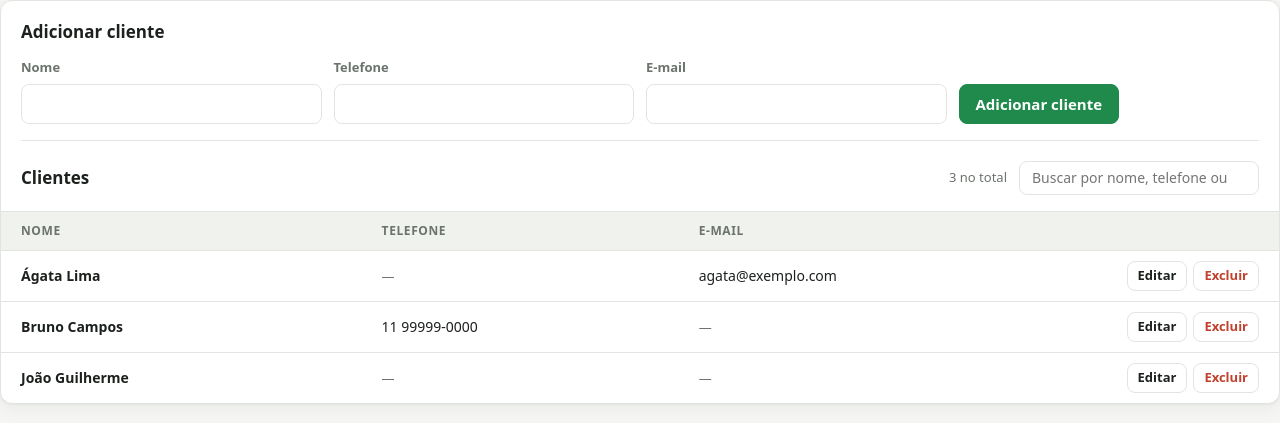
Scenario: buyers are listed alphabetically and can be searched
The width and height of the screenshot is (1280, 423).
In the search field named "buscar cliente": coordinates (1139, 178) [1019,161,1259,195], type "joao"
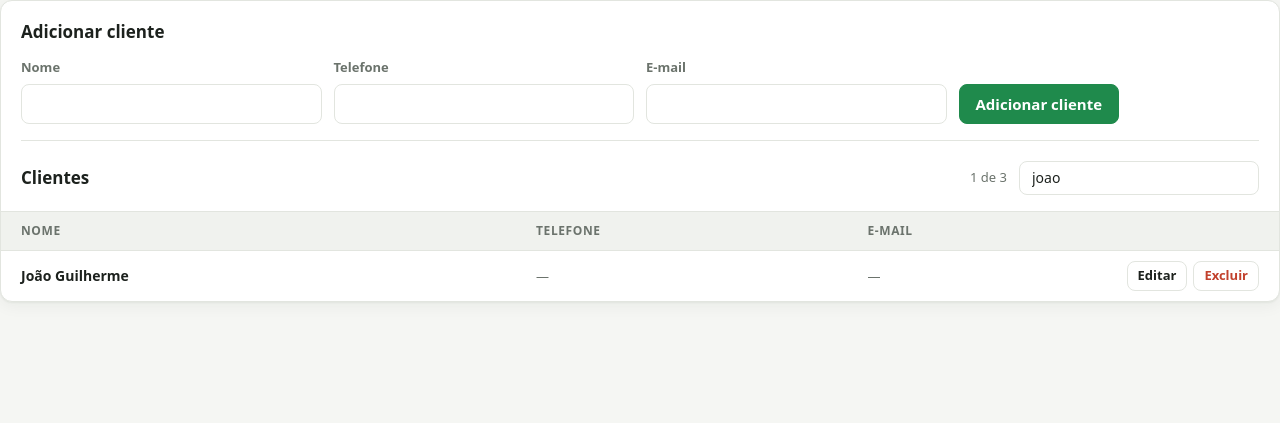
expect the text "1 de 3" is shown: met, box [970,168,1007,188]
Replace the text in the search field named "buscar cliente" with "9999": coordinates (1139, 178) [1019,161,1259,195]
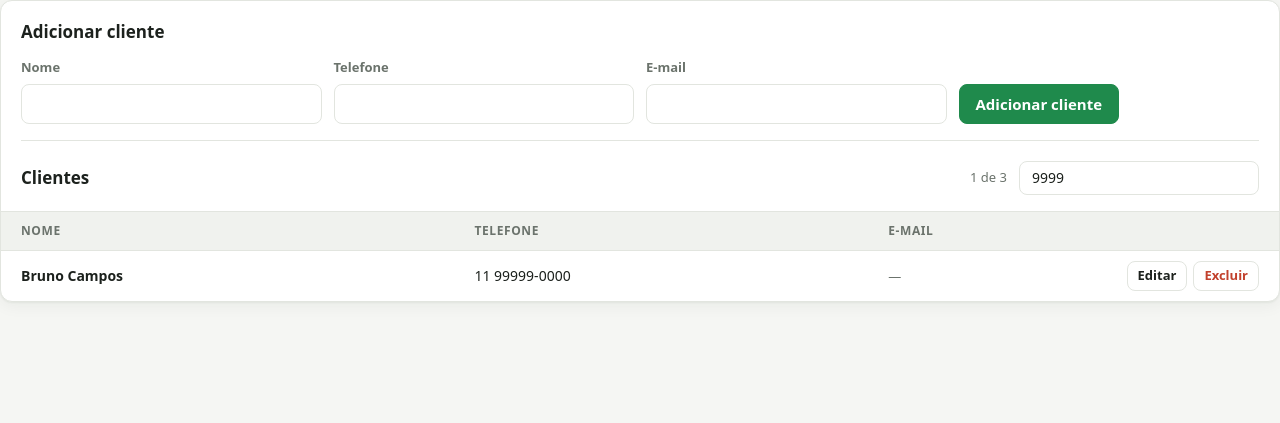
Replace the text in the search field named "buscar cliente" with "zzz": coordinates (1139, 178) [1019,161,1259,195]
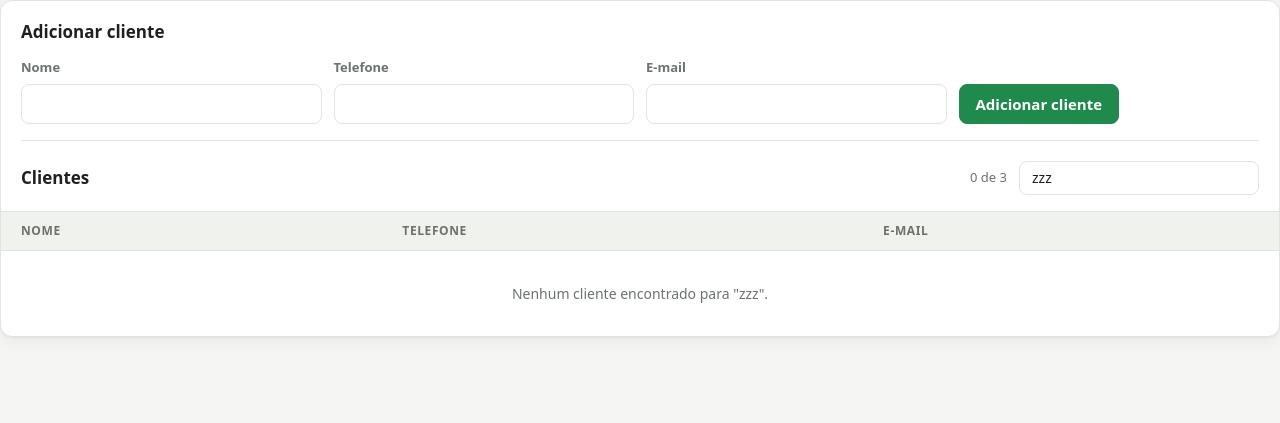
expect the text "Nenhum cliente encontrado para \"zzz\"." is shown: met, box [1,250,1279,336]
